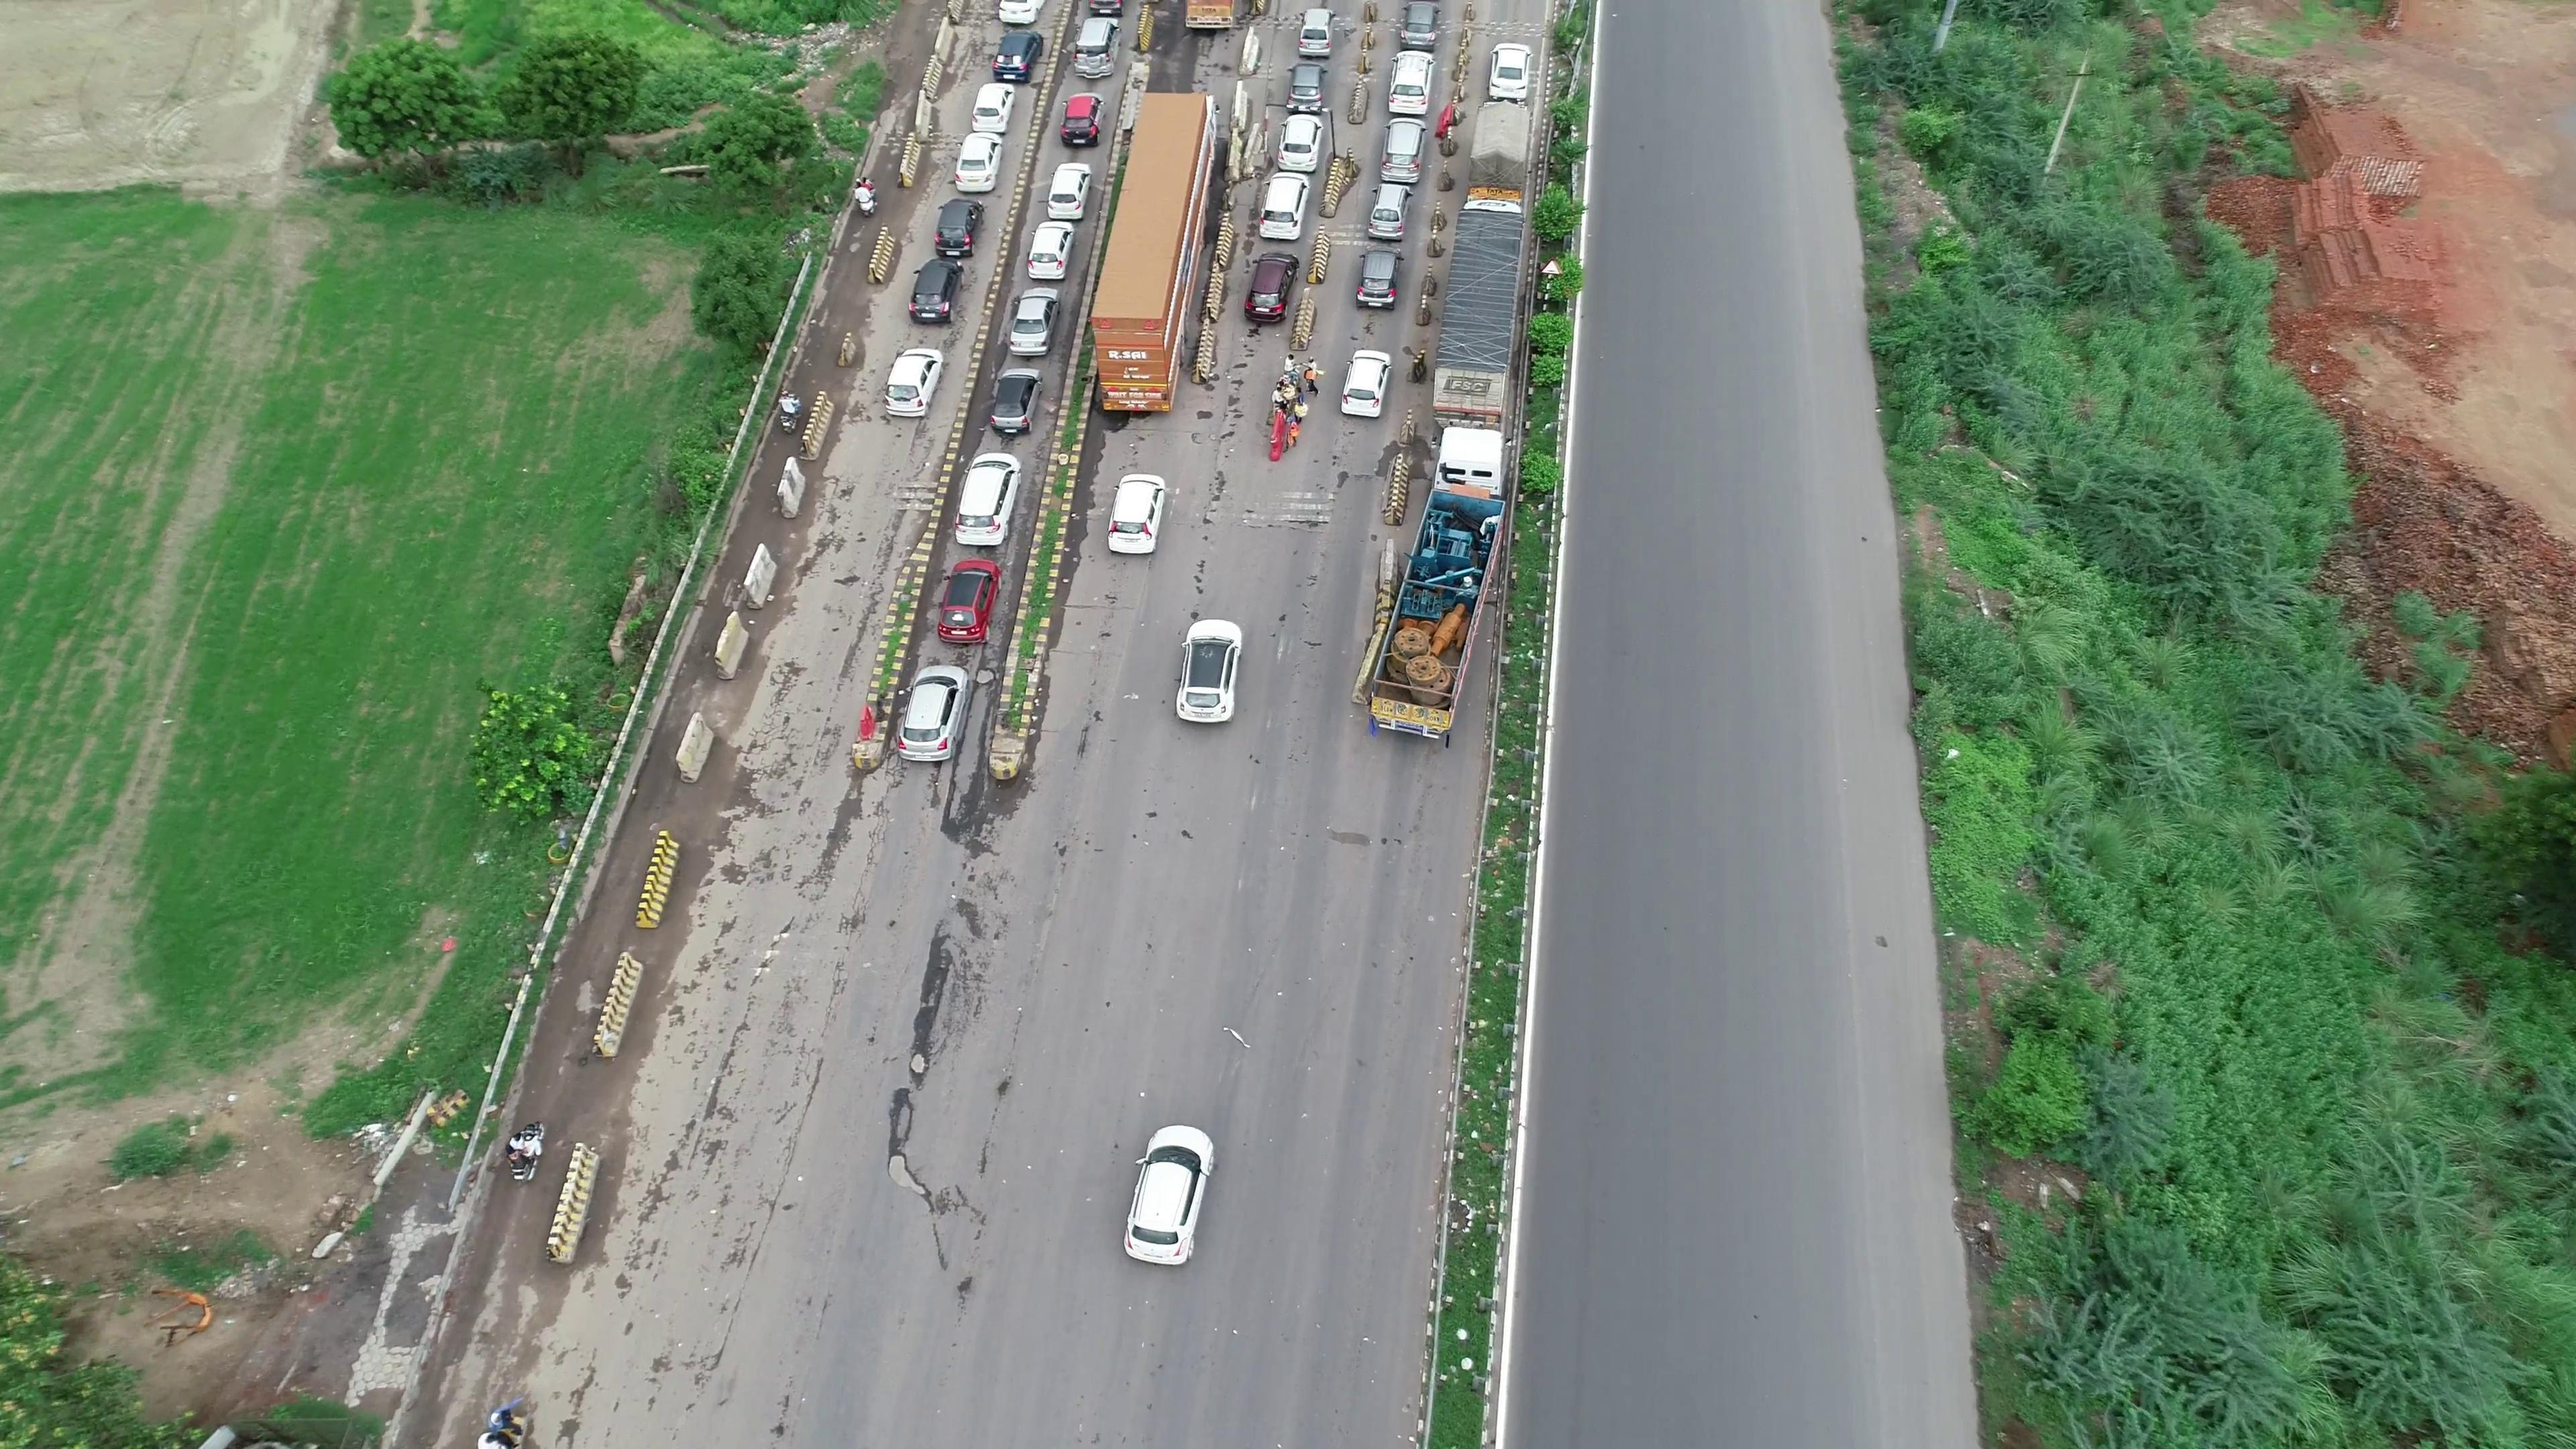Alligator_cracks: (745, 679, 796, 757)
Longitudinal_cracks: (851, 761, 899, 869)
Potholes: (878, 1138, 950, 1219), (885, 1039, 950, 1099)
